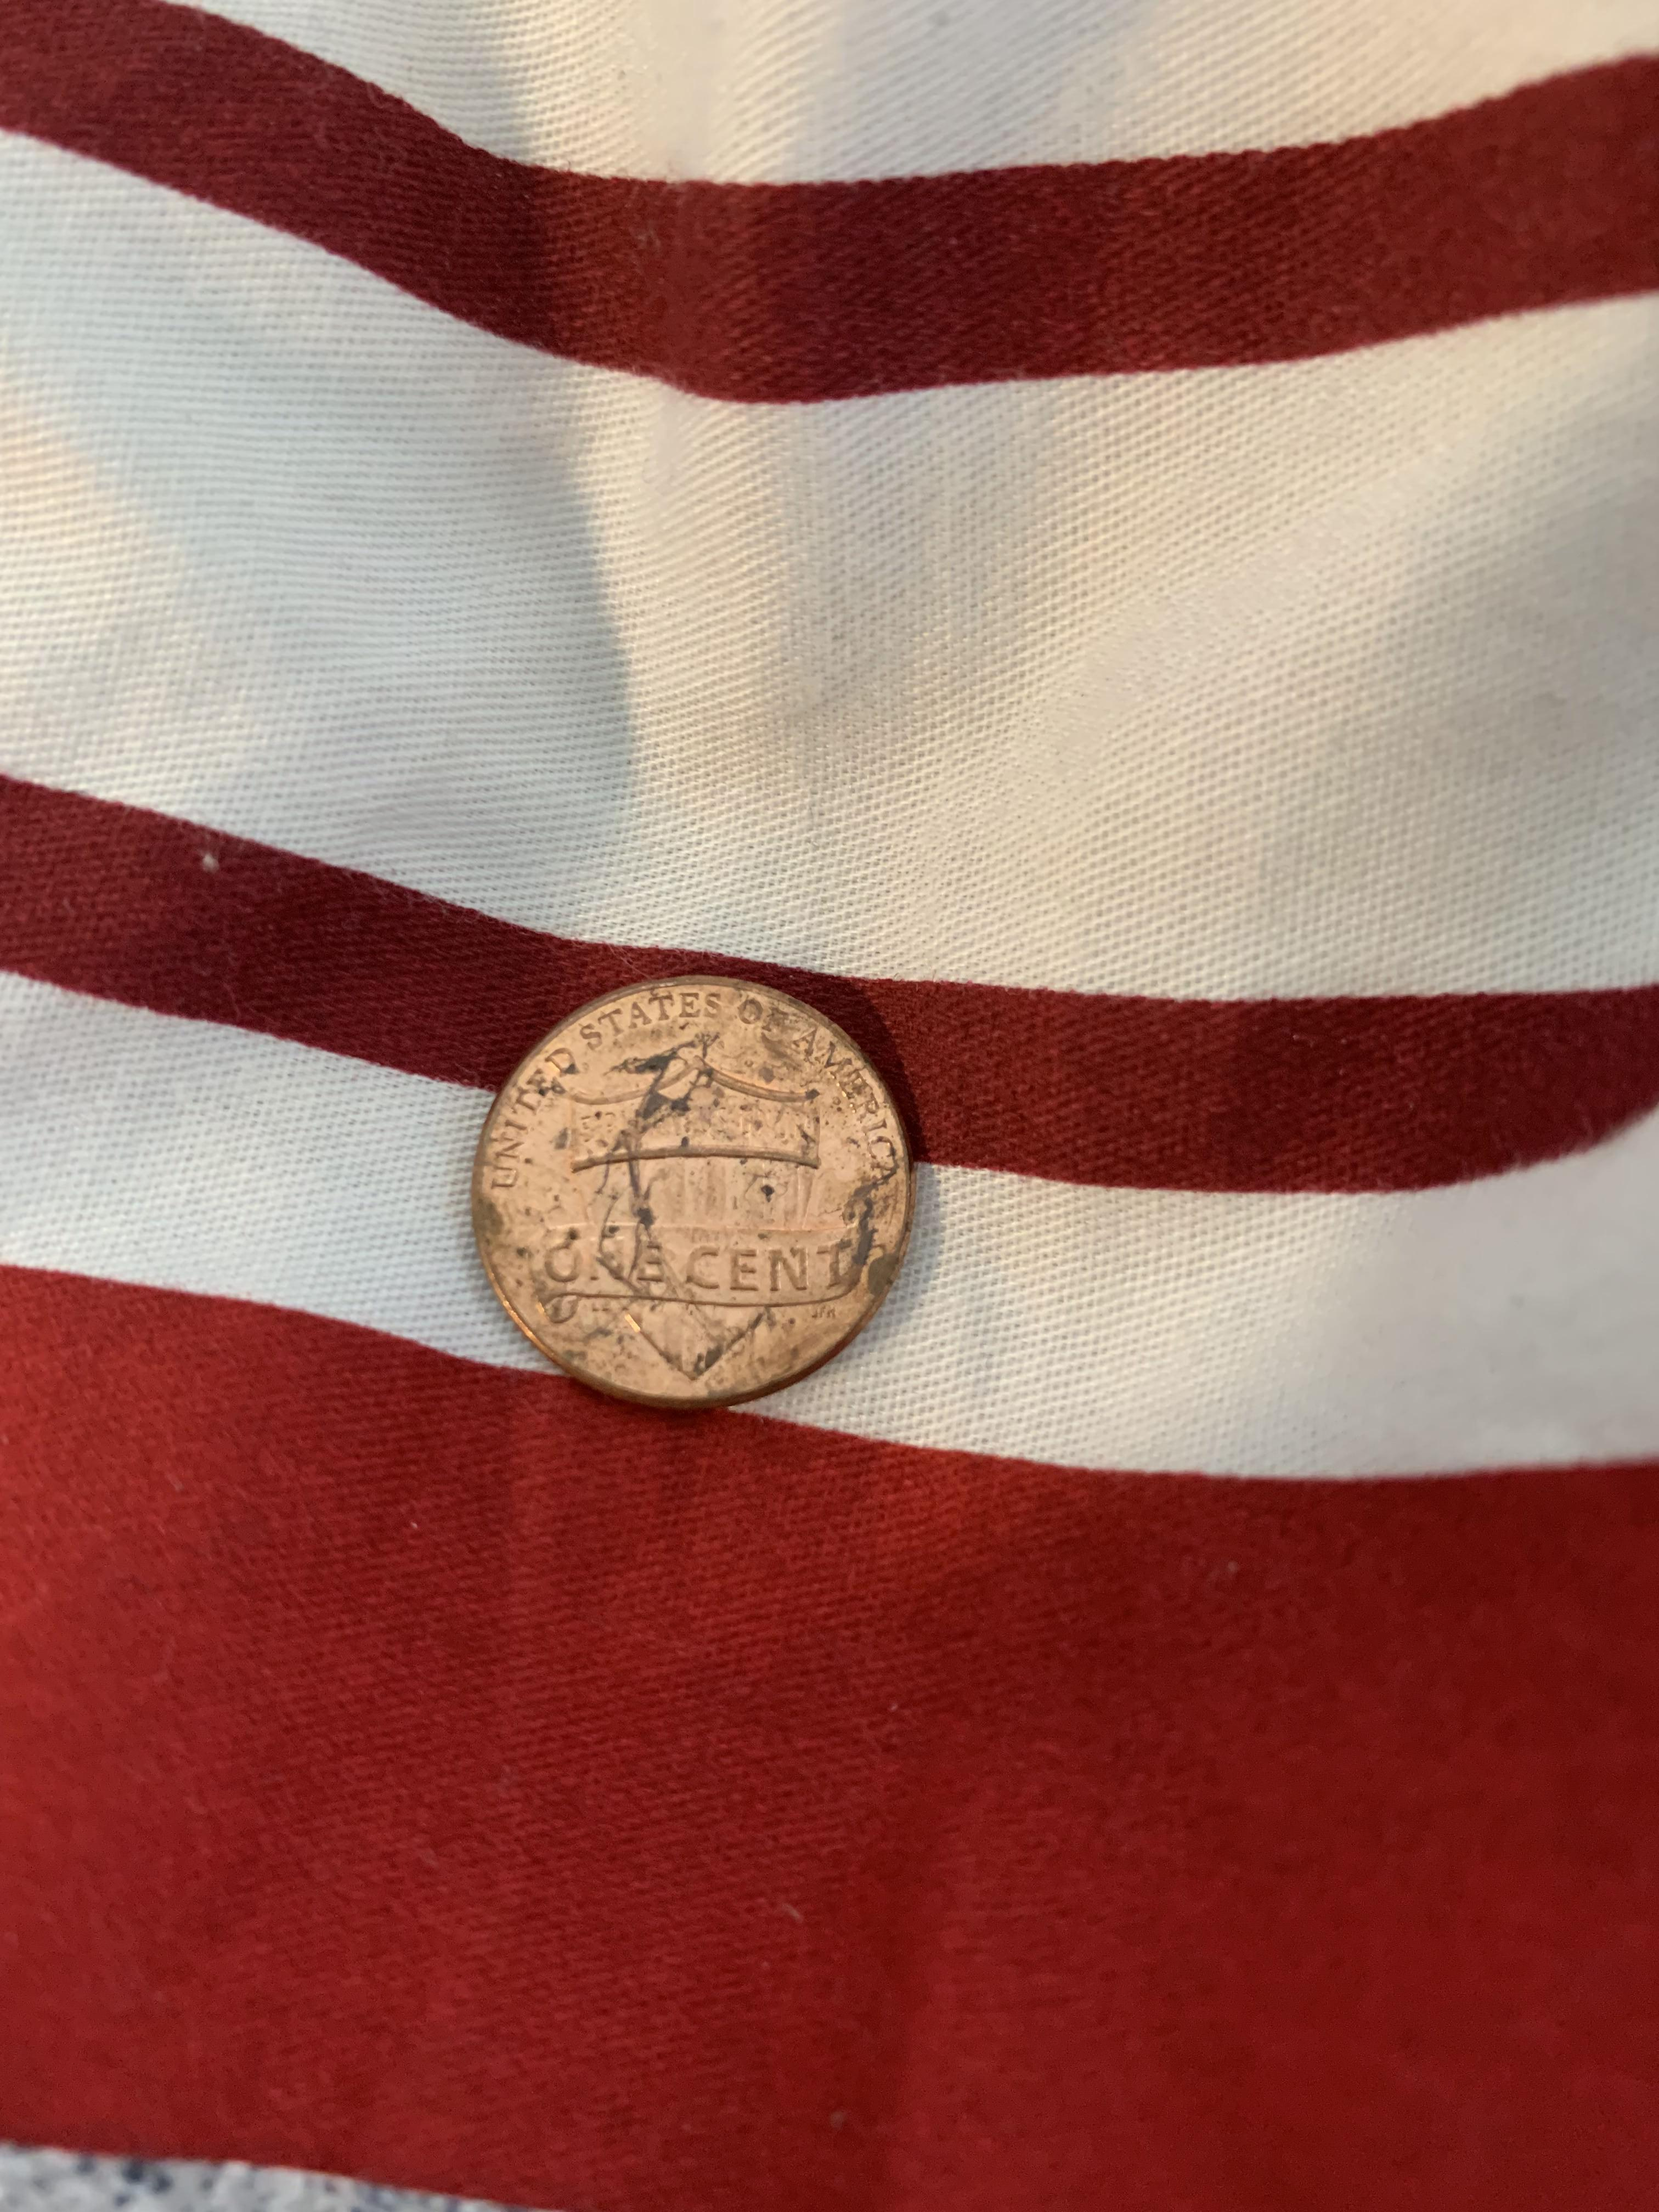Penny: (460, 961, 939, 1418)
